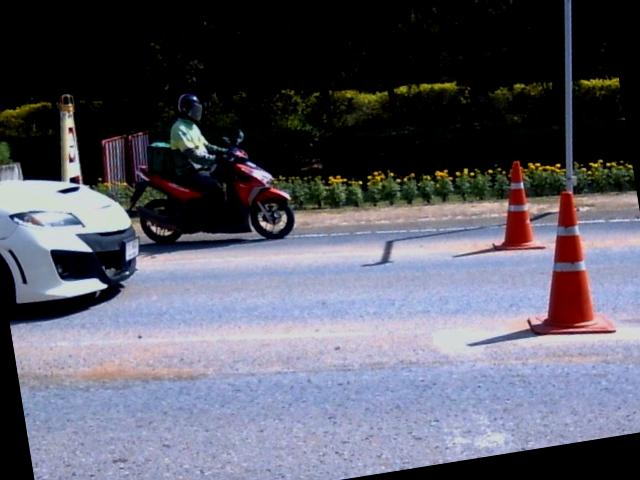helmet: (174, 93, 202, 123)
motor: (129, 130, 293, 242)
person: (169, 93, 226, 213)
